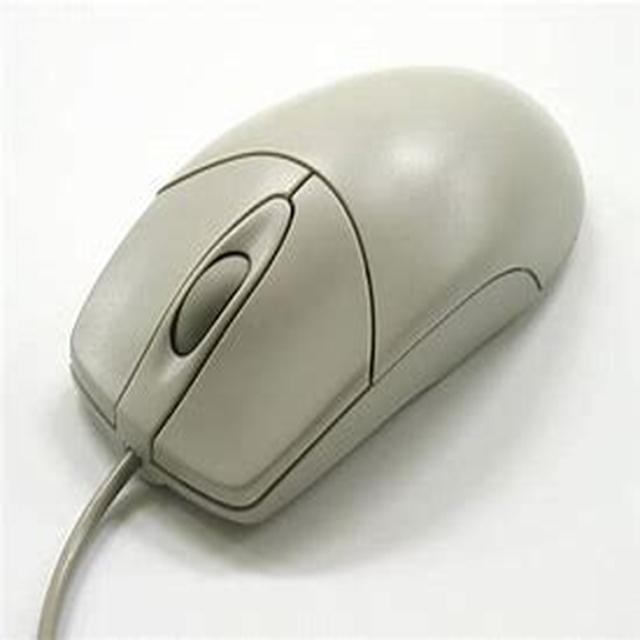mouse: (38, 46, 619, 567)
